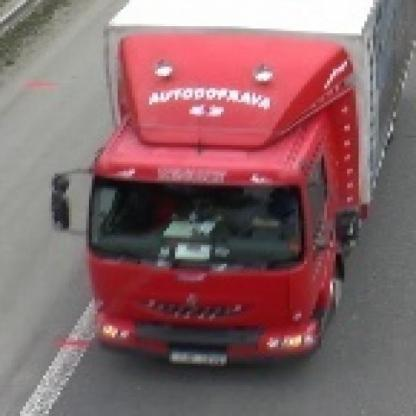truck: (58, 1, 416, 372)
